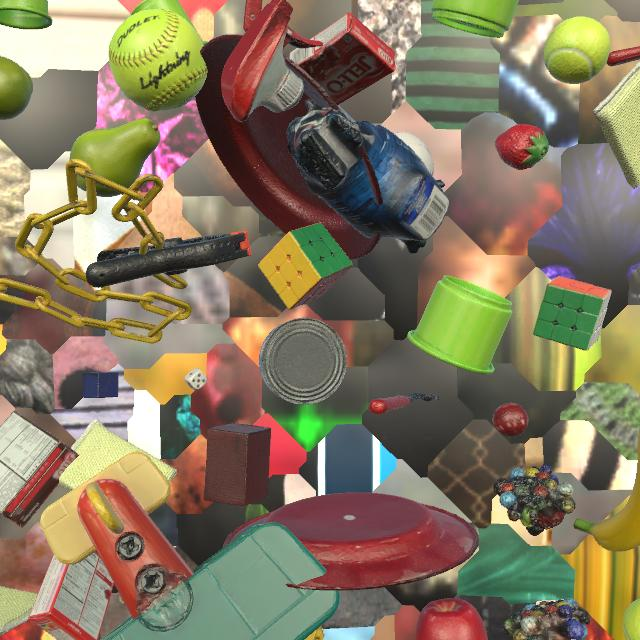ycb_007_tuna_fish_can: (259, 318, 347, 405)
ycb_008_pudding_box: (0, 411, 79, 528)
ycb_009_gelatin_box: (290, 12, 396, 105), (28, 552, 114, 640)
ycb_011_banana: (574, 428, 640, 552)
ycb_012_strawberry: (495, 124, 549, 170)
ycb_013_apple: (414, 598, 488, 640)
ycb_016_pear: (69, 118, 160, 197), (0, 56, 33, 120)
